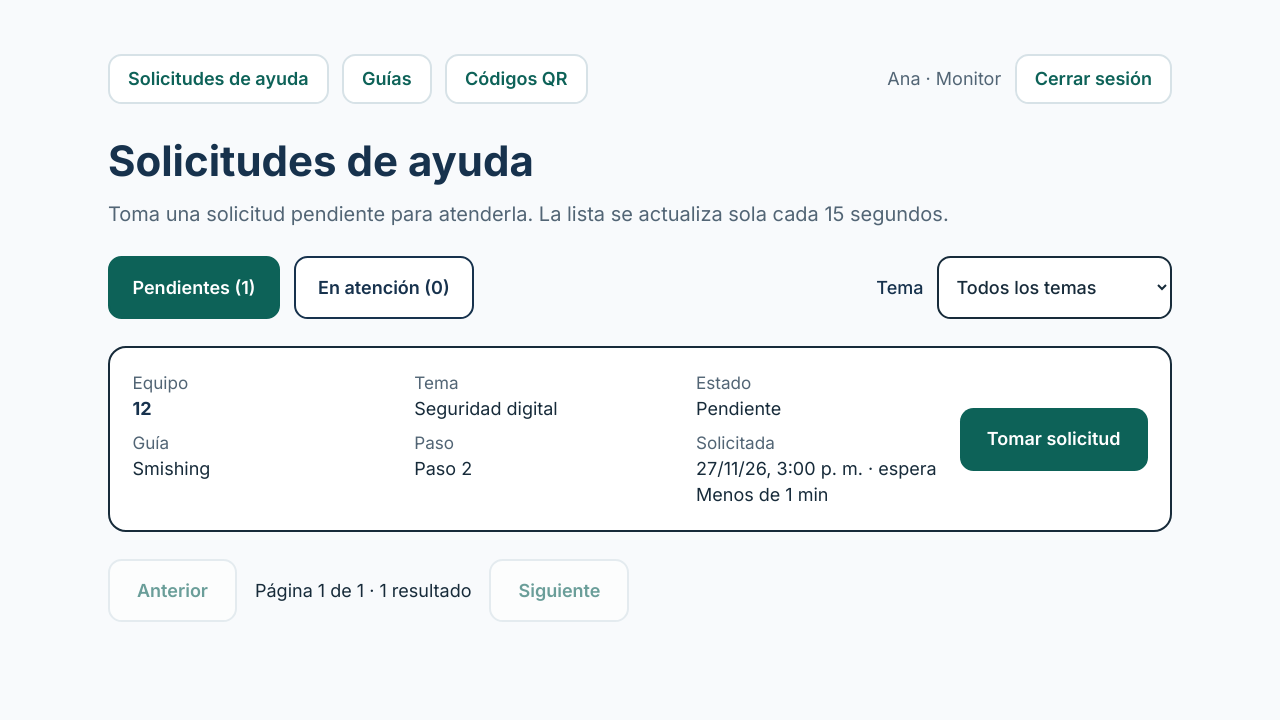
ColaSolicitudesPage › tomar solicitud › 409: informa que ya no está disponible, no reintenta y recarga
Click the button "Tomar solicitud" at point(1054, 439), box [960,408,1148,471]
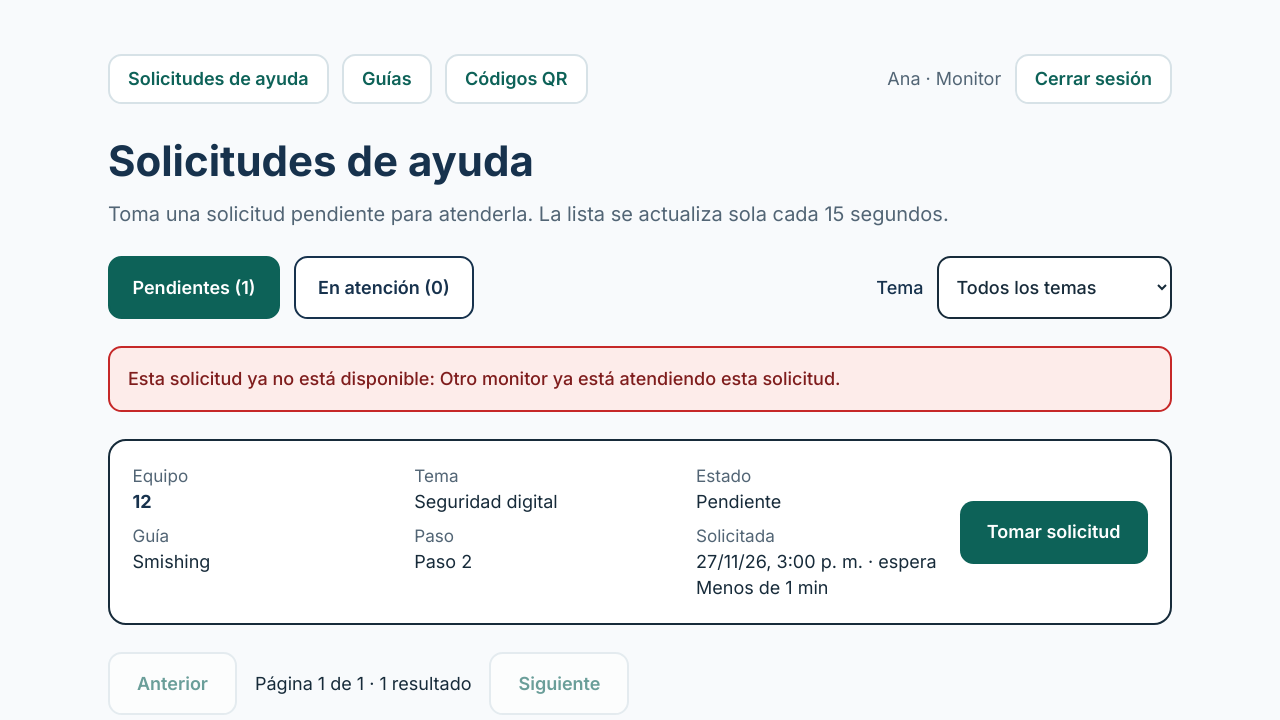
Expected: the button "Tomar solicitud" is enabled, [960,501,1148,564]
Result: the message shows "ya no está disponible" at [128,368,840,389]
Result: the message shows "Otro monitor" at [128,368,840,389]
